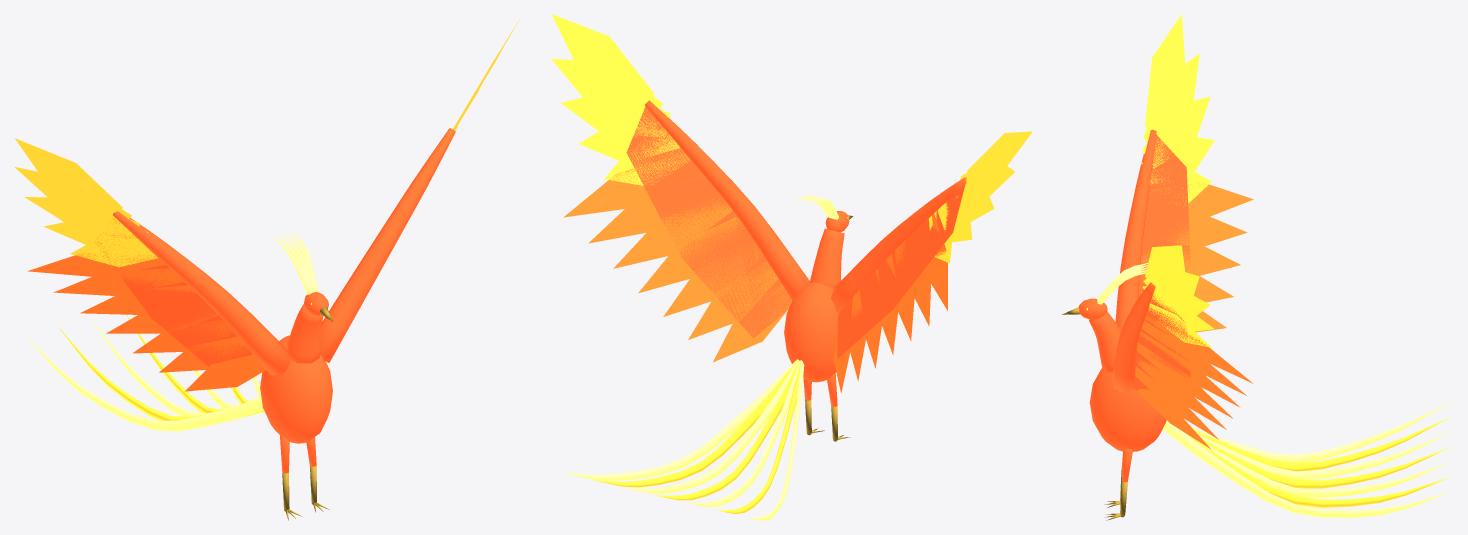
The model's file is phoenix.glb.
The picture shows the model from 3 angles, left to right: view 1: azimuth 30°, elevation 25°; view 2: azimuth 150°, elevation 25°; view 3: azimuth 270°, elevation 25°; orthographic projection. The views are drawn at different scales.
Parts seen in each view (by area): view 1: body, tail, head, leg_R; view 2: body, tail, head; view 3: body, tail, head, leg_L.
Boxes of the visible parts, bbox=[...] form: body: bbox=[15, 18, 520, 443]; tail: bbox=[24, 314, 264, 431]; head: bbox=[273, 230, 333, 321]; leg_R: bbox=[280, 435, 301, 520]; body: bbox=[551, 14, 1032, 393]; tail: bbox=[560, 359, 804, 520]; head: bbox=[796, 195, 853, 232]; body: bbox=[1089, 14, 1253, 451]; tail: bbox=[1162, 401, 1452, 517]; head: bbox=[1061, 263, 1147, 319]; leg_L: bbox=[1104, 448, 1132, 520].
Bounding box in the file's own units: 5.15 × 3.97 × 3.7.
